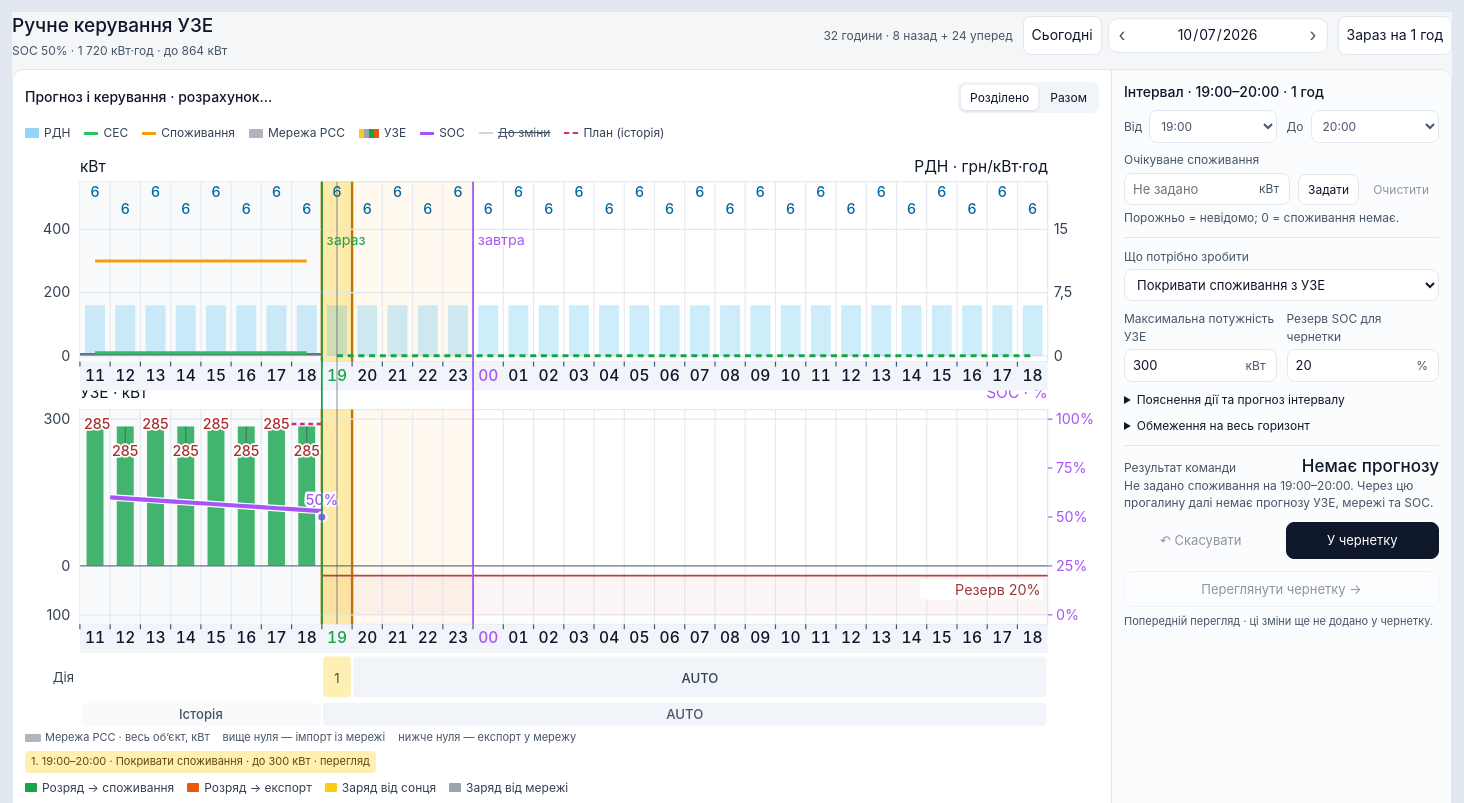
Test: DispatchDesk › shows the server shortfalls when confirm is refused
The width and height of the screenshot is (1464, 803).
Expected: the heading "Ручне керування УЗЕ" is shown, [12,12,227,40]
In the number field named "Споживання для вибраних годин": (1188,189) [1125,174,1251,204], type "200"
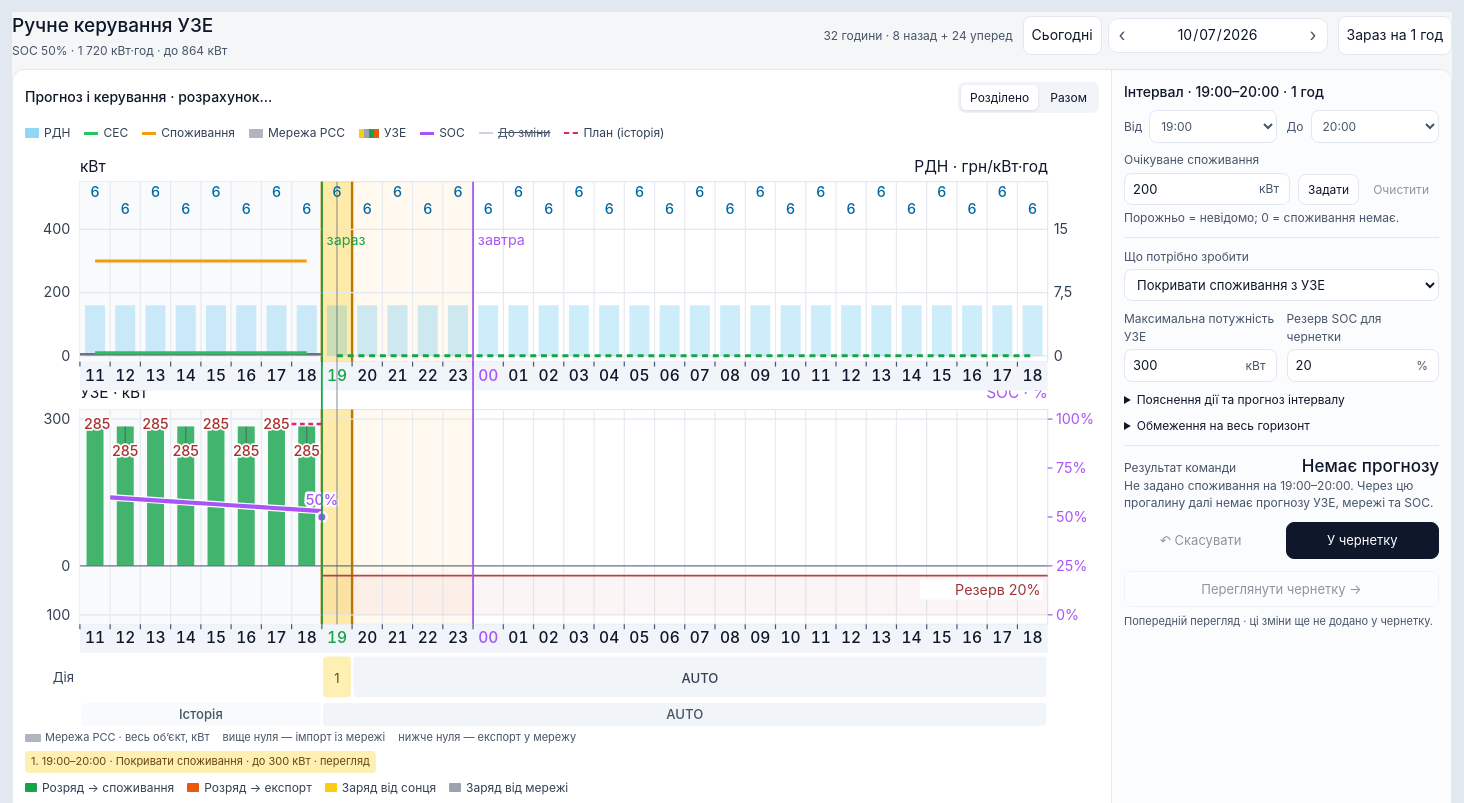
Click the button with aria-label "Задати споживання для вибраного інтервалу": (1329,190) [1298,174,1359,206]
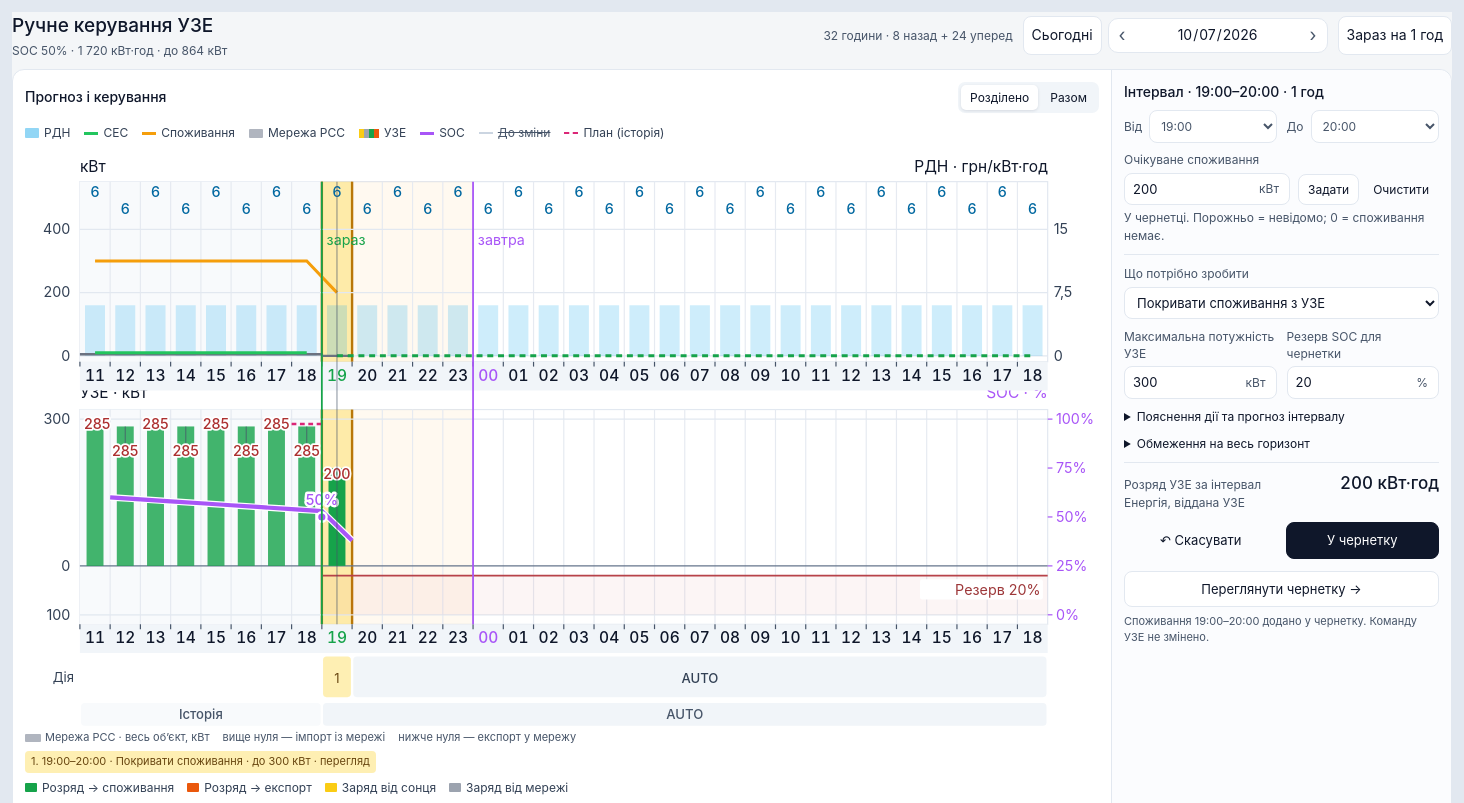
Click the button "Переглянути чернетку →": (1282,589) [1124,570,1439,607]
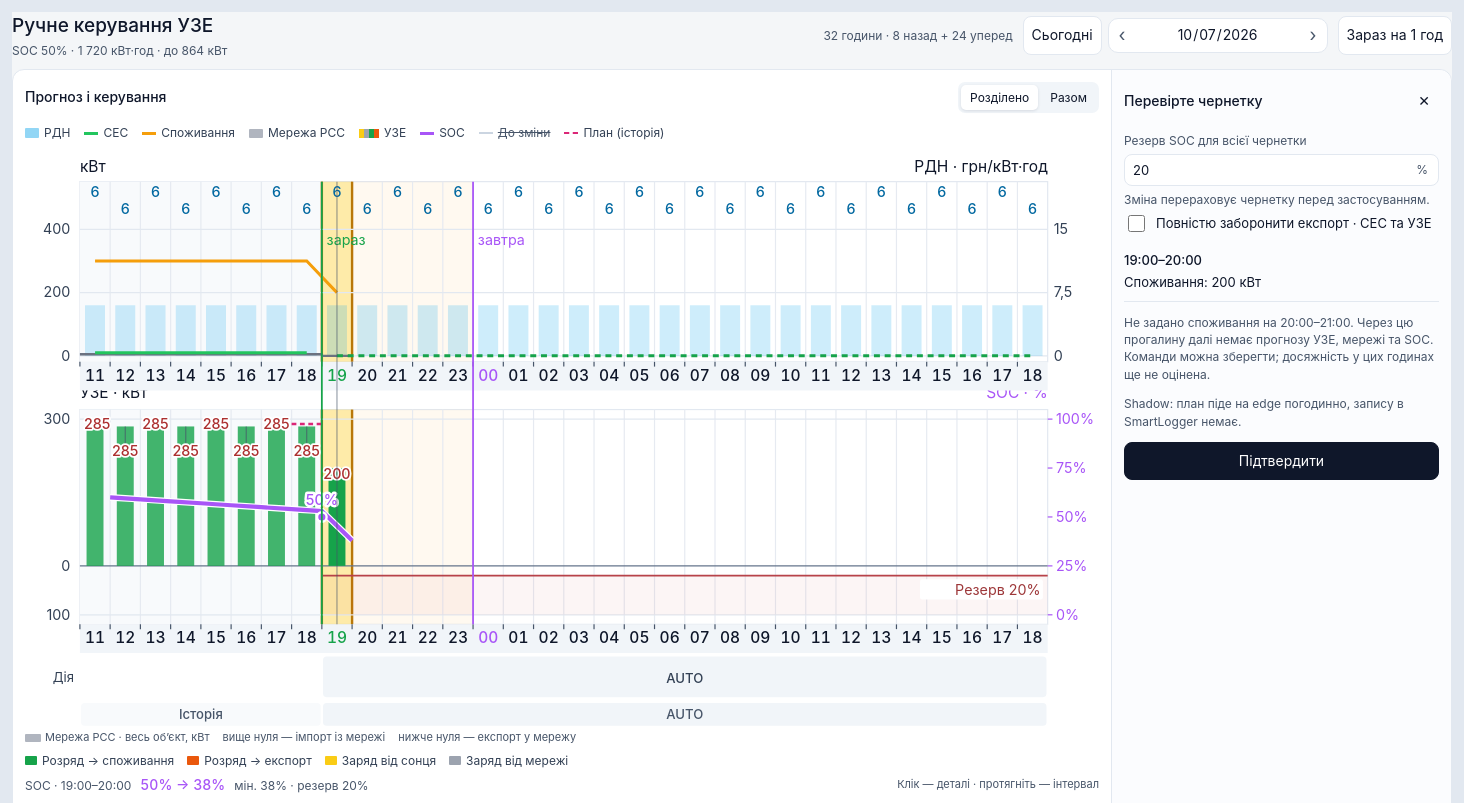
Click the button "Підтвердити": (1282,461) [1124,442,1439,480]
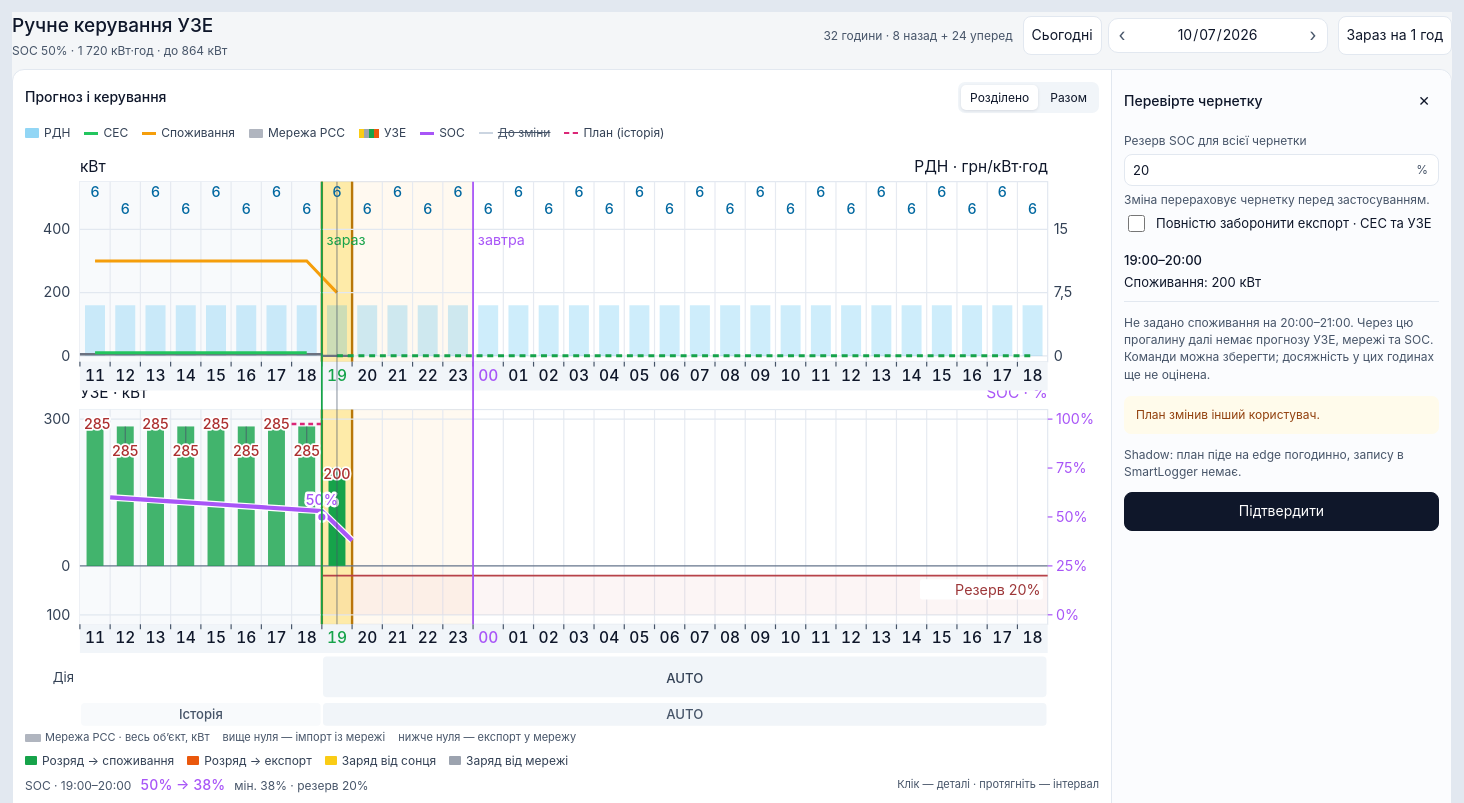
Expected: the text "План змінив інший користувач." is shown, [1124,396,1439,434]
